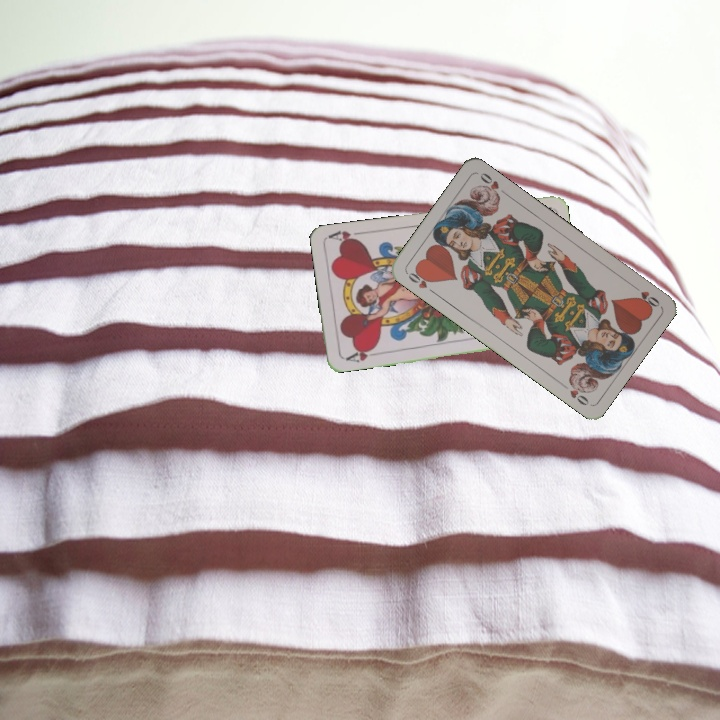HA: (341, 343, 381, 365)
HO: (403, 266, 438, 297), (627, 280, 662, 311)
